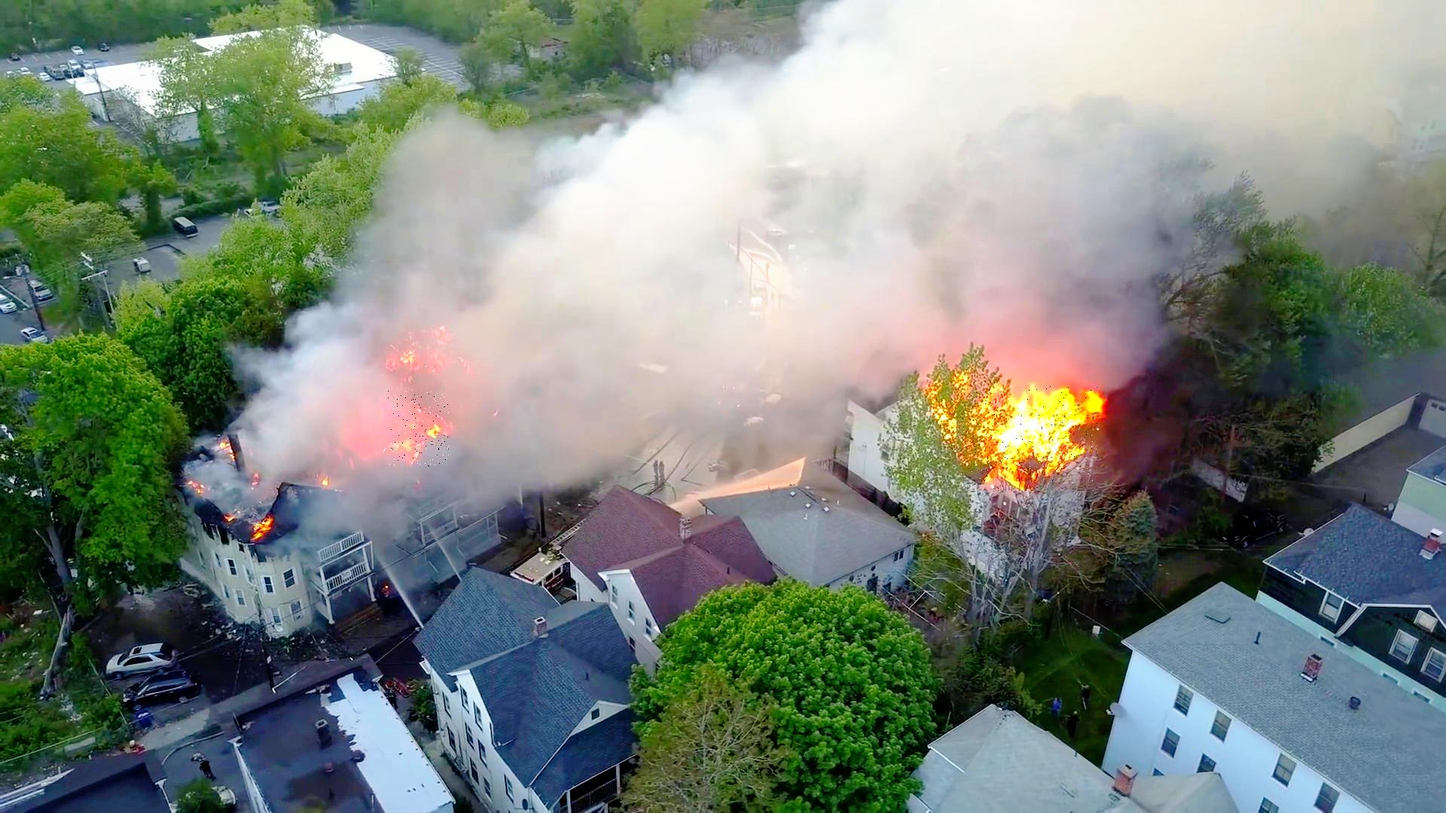fire: (957, 386, 1097, 491), (388, 390, 450, 467)
